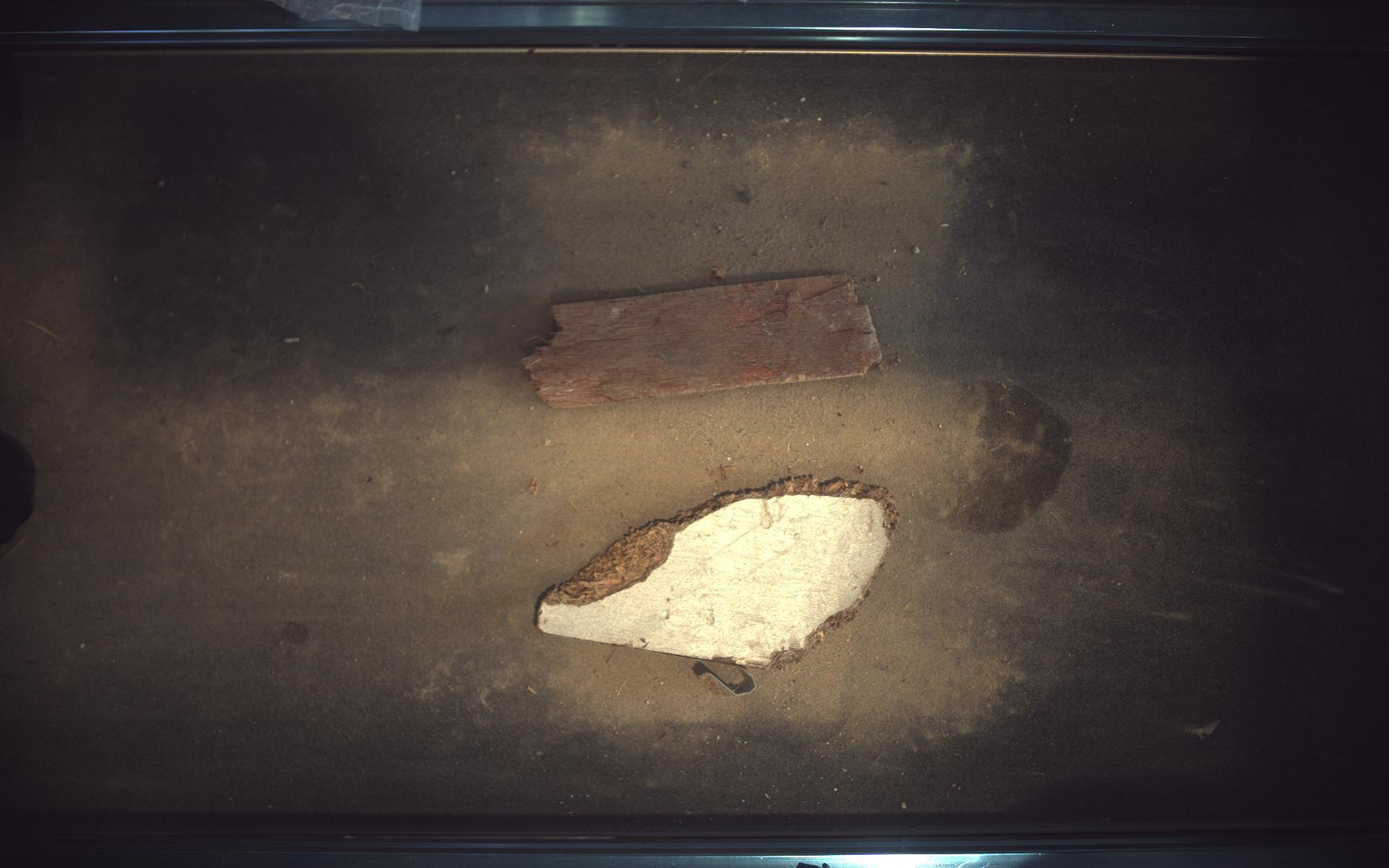wood: (538, 476, 899, 668), (523, 273, 883, 408)
